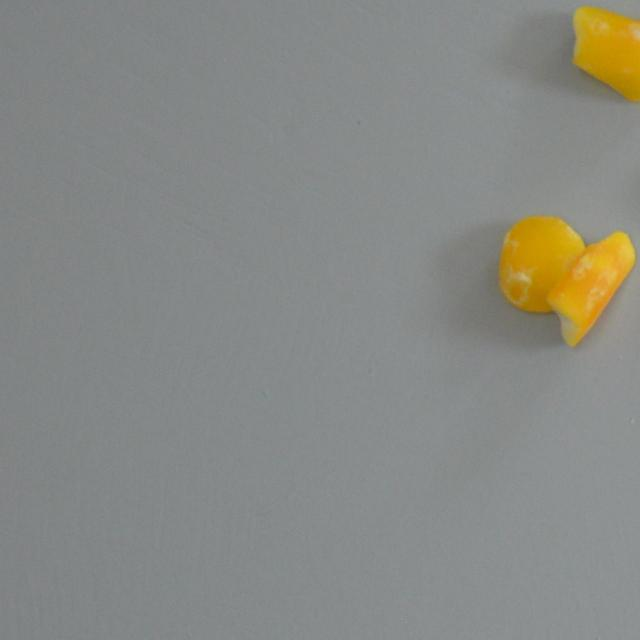pelicula: (544, 222, 634, 347), (496, 212, 582, 314), (568, 4, 640, 106)
